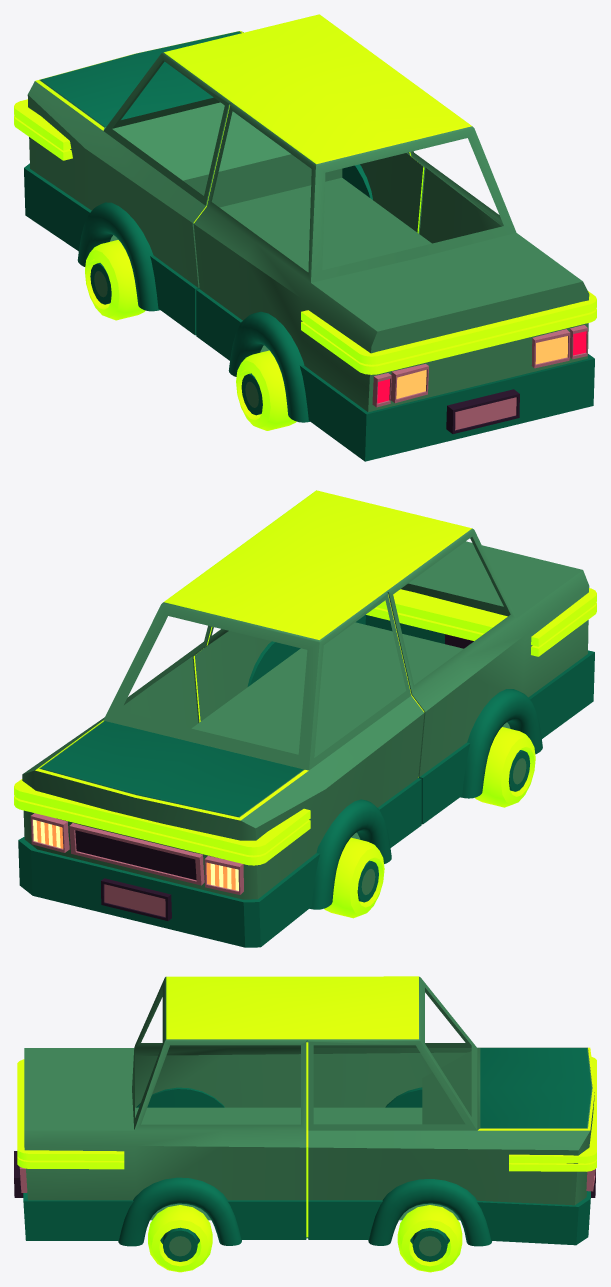
Rendered from car_5.fbx.
3 renders of one model, top to bottom at view 1: azimuth 30°, elevation 25°; view 2: azimuth 150°, elevation 25°; view 3: azimuth 270°, elevation 25°, orthographic. The views are drawn at different scales.
Visible parts, largest first — view 1: Cube.007, Cube.009, Cube.055, Cylinder.004, Cube.052, Cube.053, Cube.040, Cube.054; view 2: Cube.007, Cube.009, Cube.040, Cylinder.004, Cube.055, Cube.032, Cube.033, Cube.014; view 3: Cube.007, Cube.009, Cylinder.004, Cube.055, Cube.040.
Part boxes in pixels (x1,y1,x2,y2): Cube.007: [24, 14, 594, 461]; Cube.009: [77, 164, 372, 422]; Cube.055: [301, 291, 596, 374]; Cylinder.004: [85, 240, 296, 430]; Cube.052: [390, 329, 570, 403]; Cube.053: [446, 389, 519, 433]; Cube.040: [14, 99, 72, 160]; Cube.054: [372, 325, 587, 407]; Cube.007: [18, 490, 594, 947]; Cube.009: [247, 641, 542, 909]; Cube.040: [14, 779, 310, 865]; Cylinder.004: [324, 727, 535, 918]; Cube.055: [366, 588, 596, 656]; Cube.032: [69, 823, 204, 885]; Cube.033: [30, 813, 243, 894]; Cube.014: [101, 878, 171, 920]; Cube.007: [23, 976, 594, 1245]; Cube.009: [118, 1087, 491, 1246]; Cylinder.004: [148, 1205, 462, 1272]; Cube.055: [17, 1059, 124, 1169]; Cube.040: [509, 1056, 596, 1171].
Bounding box in the file's own units: 222 × 203 × 500.
